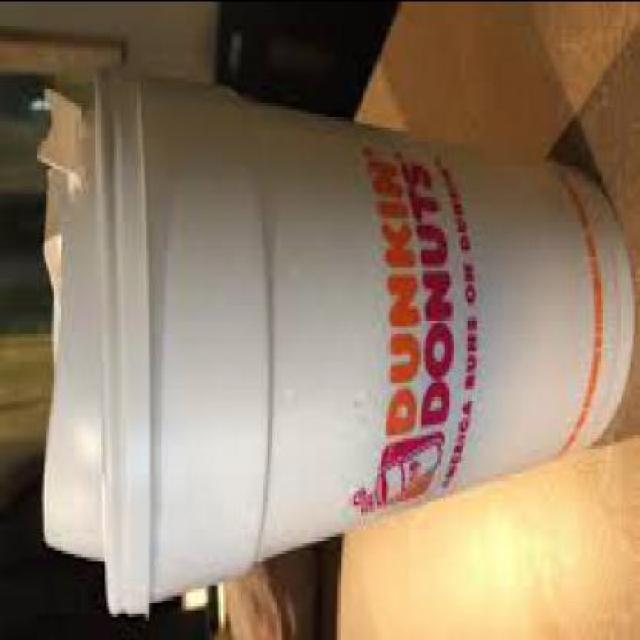PAPER: (109, 80, 631, 612)
